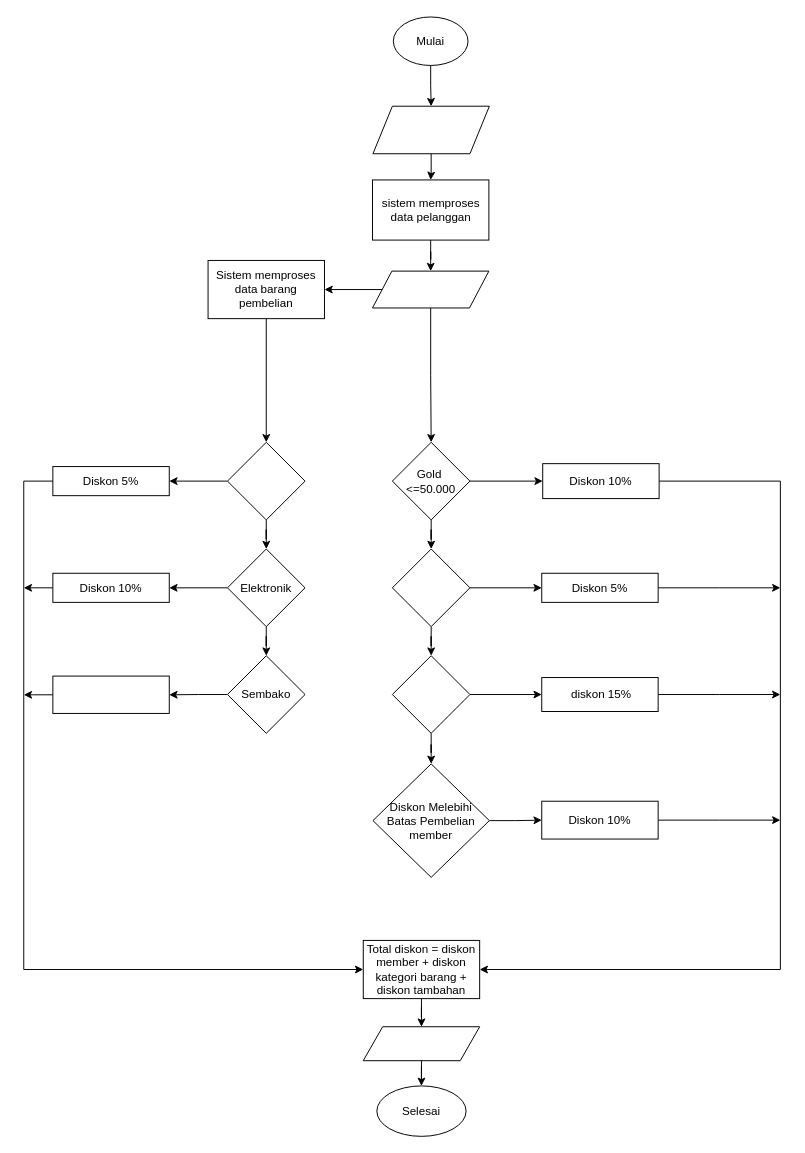
Image size: 805x1153. Some labels were removed from this diagram. Each missing label, with the centre of its shape:
"ATK" belongs at [265,480].
"Data pelanggan Level member" belongs at [430,129].
"Diskon 20%" belongs at [110,694].
"Jumlah pembelian" belongs at [430,289].
"Platinum" belongs at [430,694].
"Print Hasil" belongs at [421,1043].
"Silver <=100.000" belongs at [430,587].
